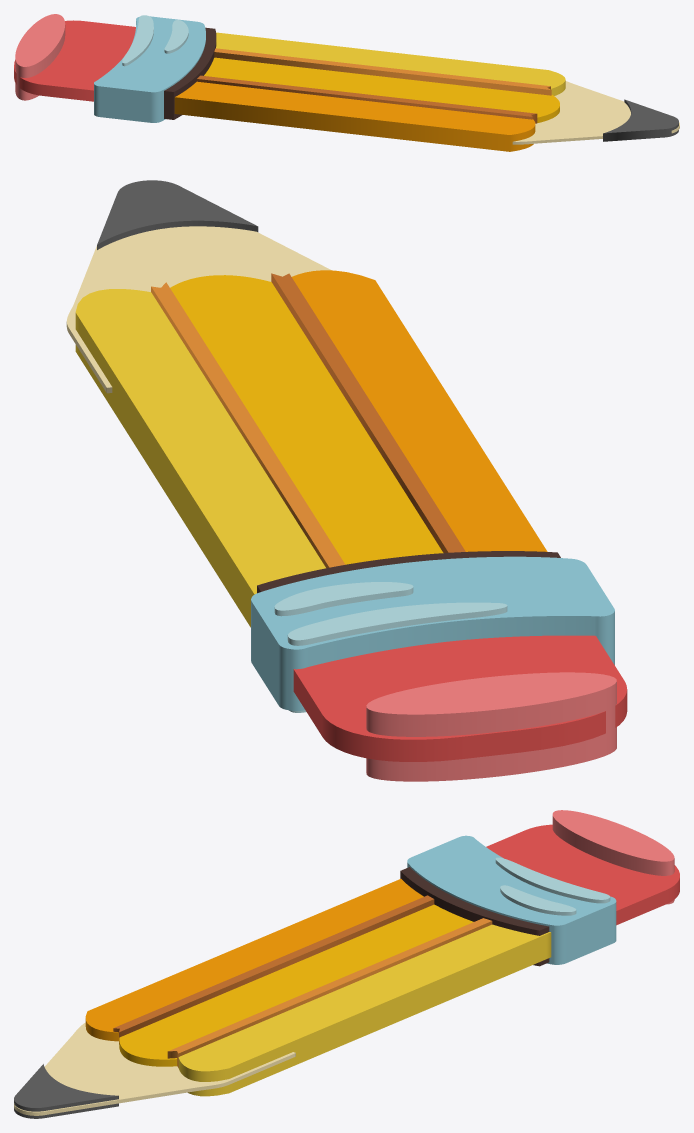
Rendered from emoji_u270f.glb.
3 views of the same model, one above another, from view 1: azimuth 30°, elevation 25°; view 2: azimuth 150°, elevation 25°; view 3: azimuth 270°, elevation 25° (orthographic). The views are drawn at different scales.
Parts seen in each view (by area): view 1: emoji_u270f; view 2: emoji_u270f; view 3: emoji_u270f.
Boxes of the visible parts, x1,y1,x2,y2 form: emoji_u270f: (14,14,679,151); emoji_u270f: (66,180,627,781); emoji_u270f: (14,810,679,1118).
Bounding box in the file's own units: 0.0339 × 0.0026 × 0.0338.
